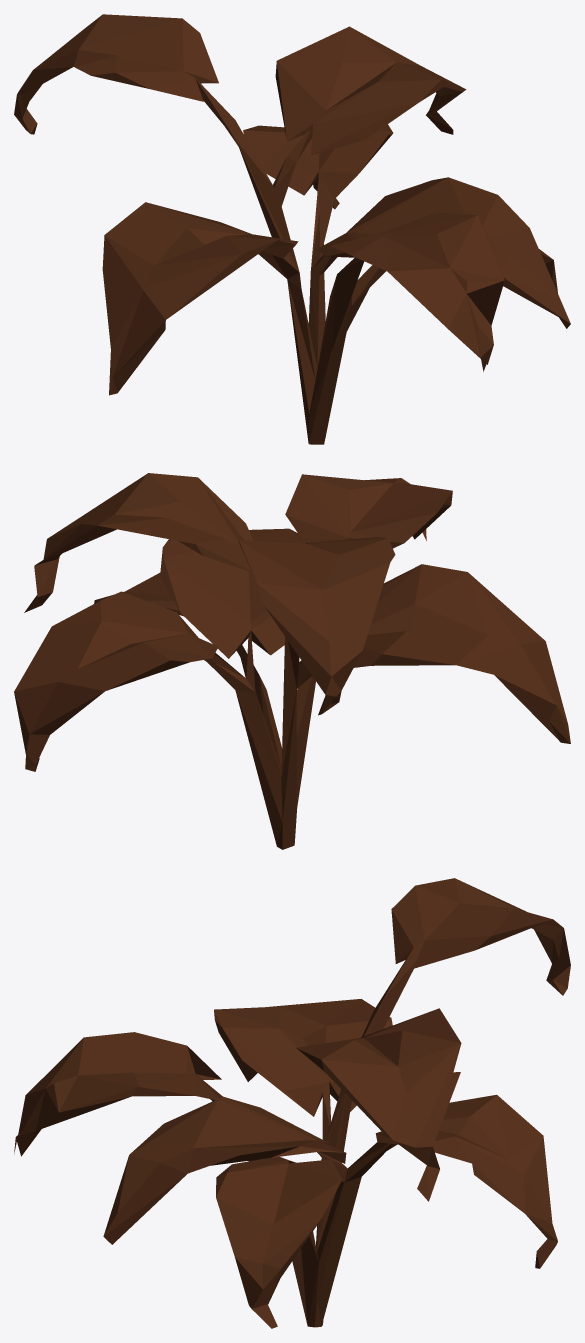
File: ShrubLeaves04.fbx
3 renders of one model, top to bottom at view 1: azimuth 30°, elevation 25°; view 2: azimuth 150°, elevation 25°; view 3: azimuth 270°, elevation 25°, orthographic. The views are drawn at different scales.
Parts seen in each view (by area): view 1: ShrubLeaves04; view 2: ShrubLeaves04; view 3: ShrubLeaves04.
Part boxes in pixels (box(x1,y1,x2,y2)): ShrubLeaves04: box(14, 14, 570, 444); ShrubLeaves04: box(14, 473, 570, 849); ShrubLeaves04: box(14, 878, 570, 1328).
Size of the model in its own units: 105 by 81.56 by 112.
